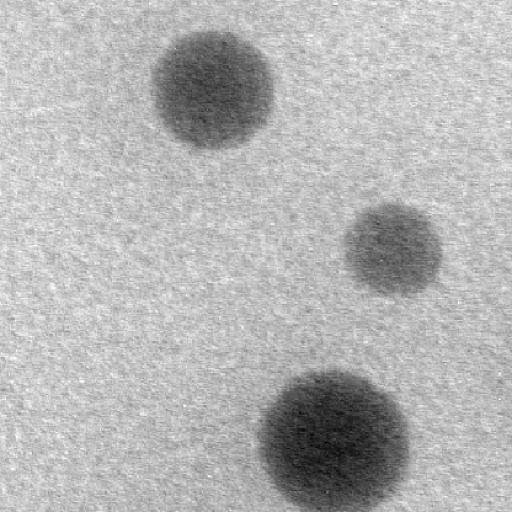Nanoparticles: (257, 364, 416, 512), (149, 23, 280, 152), (345, 200, 450, 298)
